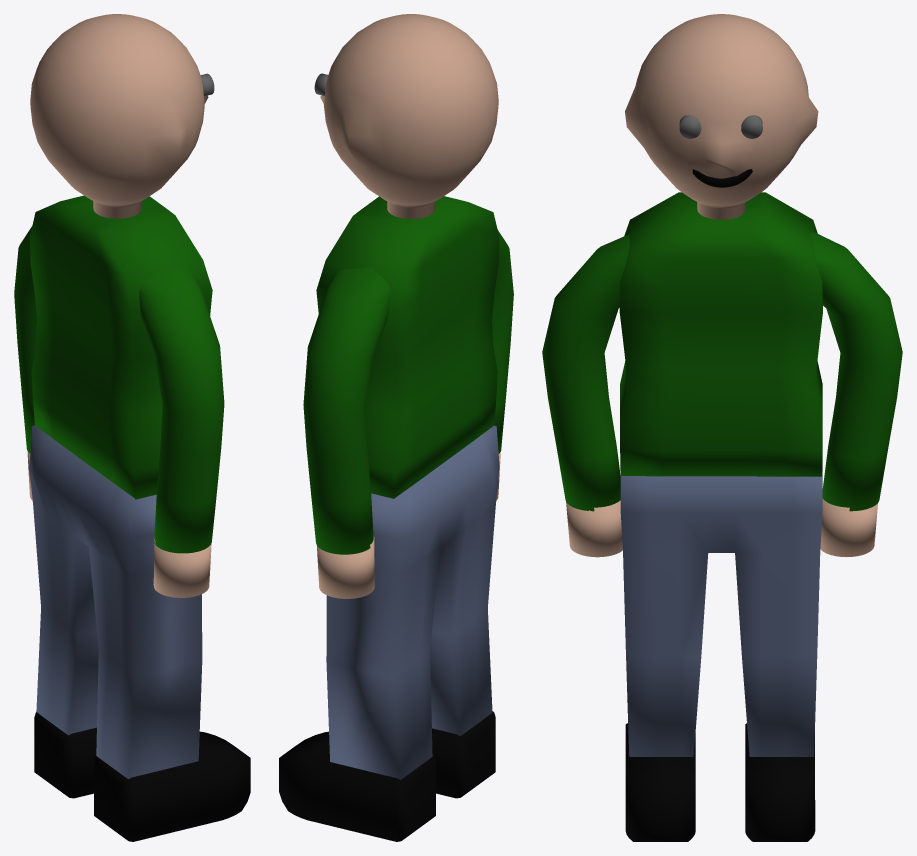
File: Mand.fbx
3 views of the same model, side by side, from view 1: azimuth 30°, elevation 25°; view 2: azimuth 150°, elevation 25°; view 3: azimuth 270°, elevation 25° (orthographic).
Visible parts, largest first — view 1: 2Bukser.001, 2Torso.001, 2Hovede.001, 2VenstreArm.002, 2HøjreSko.001, 2VenstreSko.001, 2VenstreArm.003, 2HøjreHånd.001; view 2: 2Bukser.001, 2Torso.001, 2Hovede.001, 2VenstreArm.003, 2VenstreSko.001, 2HøjreSko.001, 2VenstreArm.002, 2VenstreHånd.001; view 3: 2Torso.001, 2Bukser.001, 2Hovede.001, 2VenstreArm.003, 2VenstreArm.002, 2HøjreSko.001, 2VenstreSko.001, 2VenstreHånd.001, 2HøjreHånd.001.
Part boxes in pixels (bbox=[...]): 2Bukser.001: bbox=[29, 425, 202, 779]; 2Torso.001: bbox=[30, 195, 212, 499]; 2Hovede.001: bbox=[30, 14, 208, 218]; 2VenstreArm.002: bbox=[139, 267, 224, 553]; 2HøjreSko.001: bbox=[94, 731, 250, 841]; 2VenstreSko.001: bbox=[34, 712, 96, 798]; 2VenstreArm.003: bbox=[14, 226, 36, 453]; 2HøjreHånd.001: bbox=[153, 537, 211, 597]; 2Bukser.001: bbox=[326, 425, 499, 779]; 2Torso.001: bbox=[316, 196, 499, 498]; 2Hovede.001: bbox=[320, 14, 498, 218]; 2VenstreArm.003: bbox=[303, 267, 390, 554]; 2VenstreSko.001: bbox=[279, 731, 435, 841]; 2HøjreSko.001: bbox=[432, 711, 495, 798]; 2VenstreArm.002: bbox=[492, 230, 513, 453]; 2VenstreHånd.001: bbox=[317, 536, 374, 598]; 2Torso.001: bbox=[619, 192, 822, 476]; 2Bukser.001: bbox=[620, 453, 822, 756]; 2Hovede.001: bbox=[625, 14, 818, 219]; 2VenstreArm.003: bbox=[809, 232, 902, 511]; 2VenstreArm.002: bbox=[542, 235, 698, 511]; 2HøjreSko.001: bbox=[625, 723, 695, 841]; 2VenstreSko.001: bbox=[745, 723, 815, 841]; 2VenstreHånd.001: bbox=[820, 498, 877, 557]; 2HøjreHånd.001: bbox=[566, 500, 622, 557].
Size of the model in its own units: 92.64 by 395 by 165.
